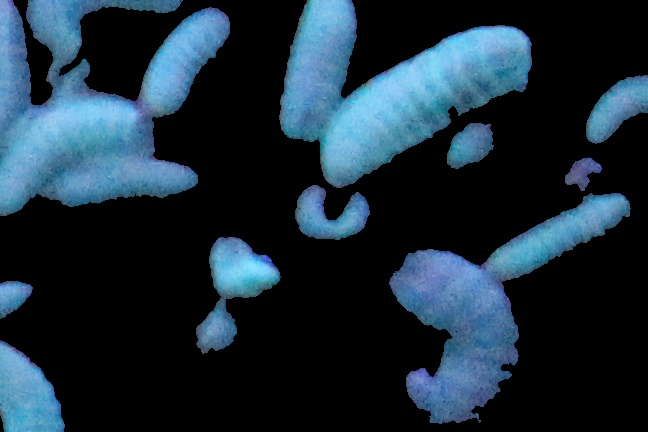larvae: (318, 25, 531, 189), (384, 249, 518, 424), (1, 88, 159, 219), (479, 195, 633, 284), (268, 1, 359, 144), (131, 8, 229, 117), (34, 155, 197, 208), (27, 1, 188, 47), (2, 341, 67, 432), (585, 71, 648, 145), (1, 1, 30, 153), (294, 186, 367, 241), (1, 280, 31, 320)
